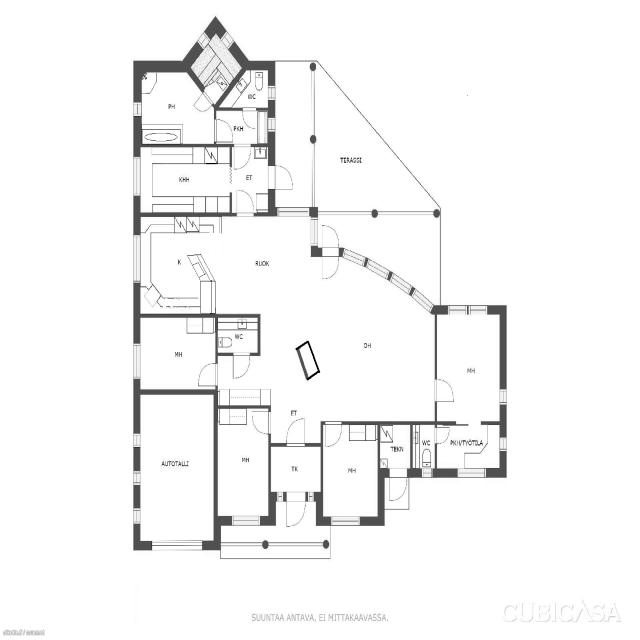door: (319, 222, 342, 284), (284, 492, 308, 530), (269, 162, 296, 194), (432, 374, 457, 406), (387, 470, 409, 504), (285, 416, 308, 448), (249, 408, 273, 437), (196, 360, 220, 389), (231, 143, 253, 172), (231, 351, 252, 381), (322, 421, 345, 448), (234, 188, 255, 216), (212, 117, 234, 143), (192, 90, 214, 112), (307, 218, 320, 253), (433, 423, 452, 446), (242, 106, 258, 132)
window: (144, 536, 207, 556), (442, 300, 492, 320), (388, 272, 415, 300), (131, 232, 143, 287), (227, 512, 264, 528), (273, 204, 312, 219), (412, 287, 436, 311), (131, 153, 143, 200), (131, 339, 143, 384), (327, 514, 363, 527), (454, 466, 489, 479), (308, 213, 320, 250), (132, 99, 144, 120), (498, 384, 508, 409), (266, 115, 277, 135), (267, 82, 277, 104), (132, 429, 142, 451), (498, 434, 508, 455), (132, 469, 142, 490), (132, 506, 141, 527), (420, 468, 434, 479)
zone: (306, 215, 438, 421), (135, 214, 303, 316), (136, 391, 217, 546), (435, 309, 503, 423), (215, 402, 272, 523), (137, 146, 230, 215), (136, 315, 218, 393), (320, 422, 380, 522), (137, 69, 210, 145), (435, 424, 504, 473), (268, 444, 322, 494), (196, 34, 238, 92), (215, 315, 260, 354), (379, 423, 411, 472), (411, 423, 437, 473), (237, 70, 269, 109)
